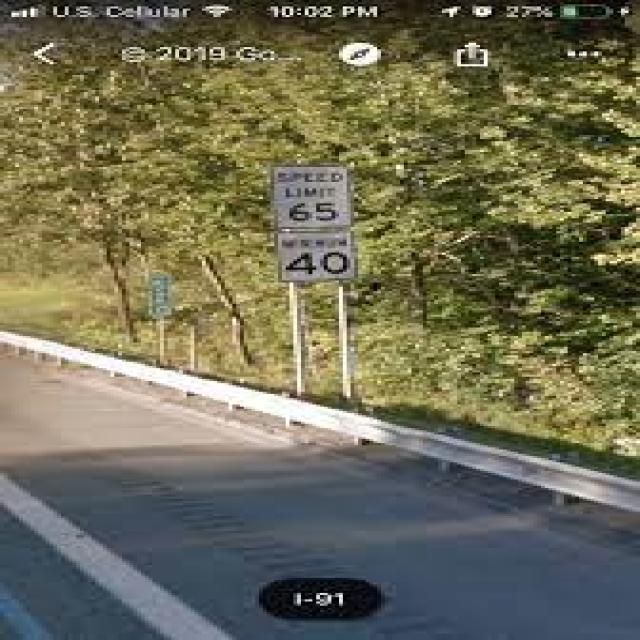speedLimit65: (272, 153, 358, 282)
